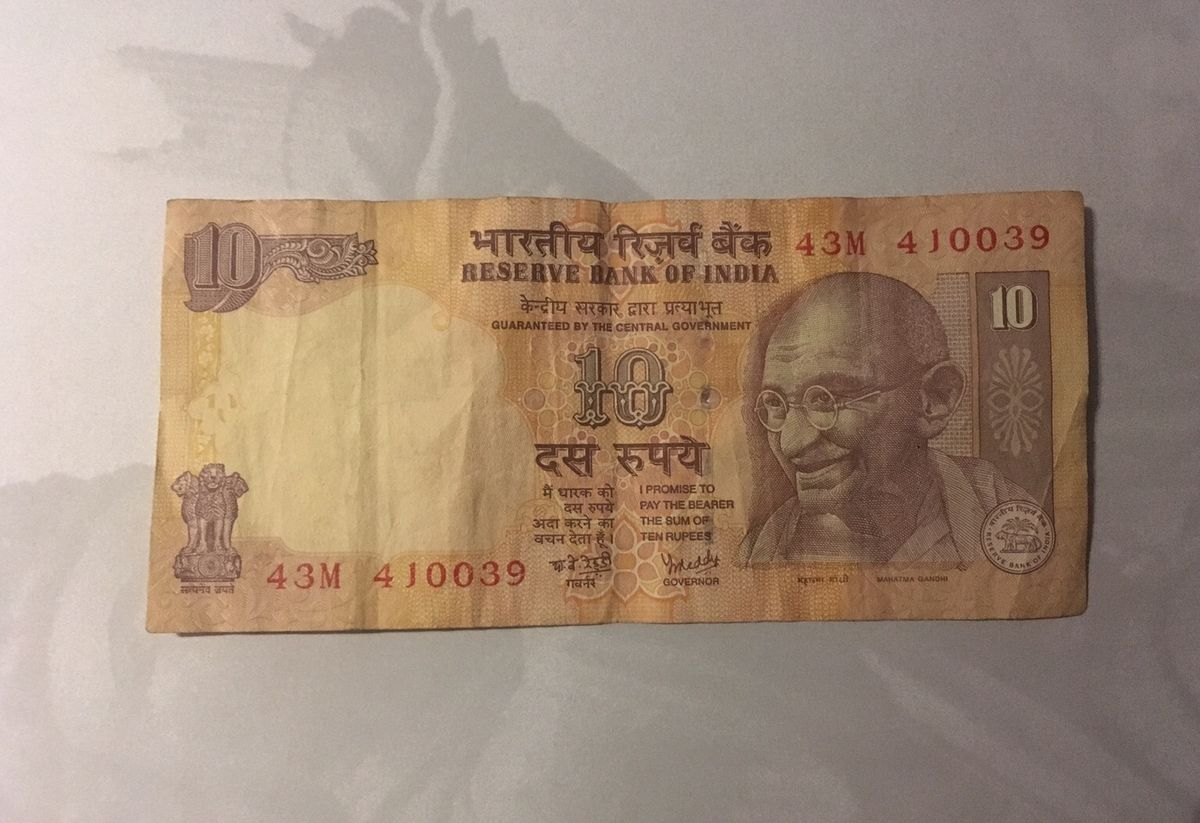ten_rupees_note: (146, 190, 1089, 636)
